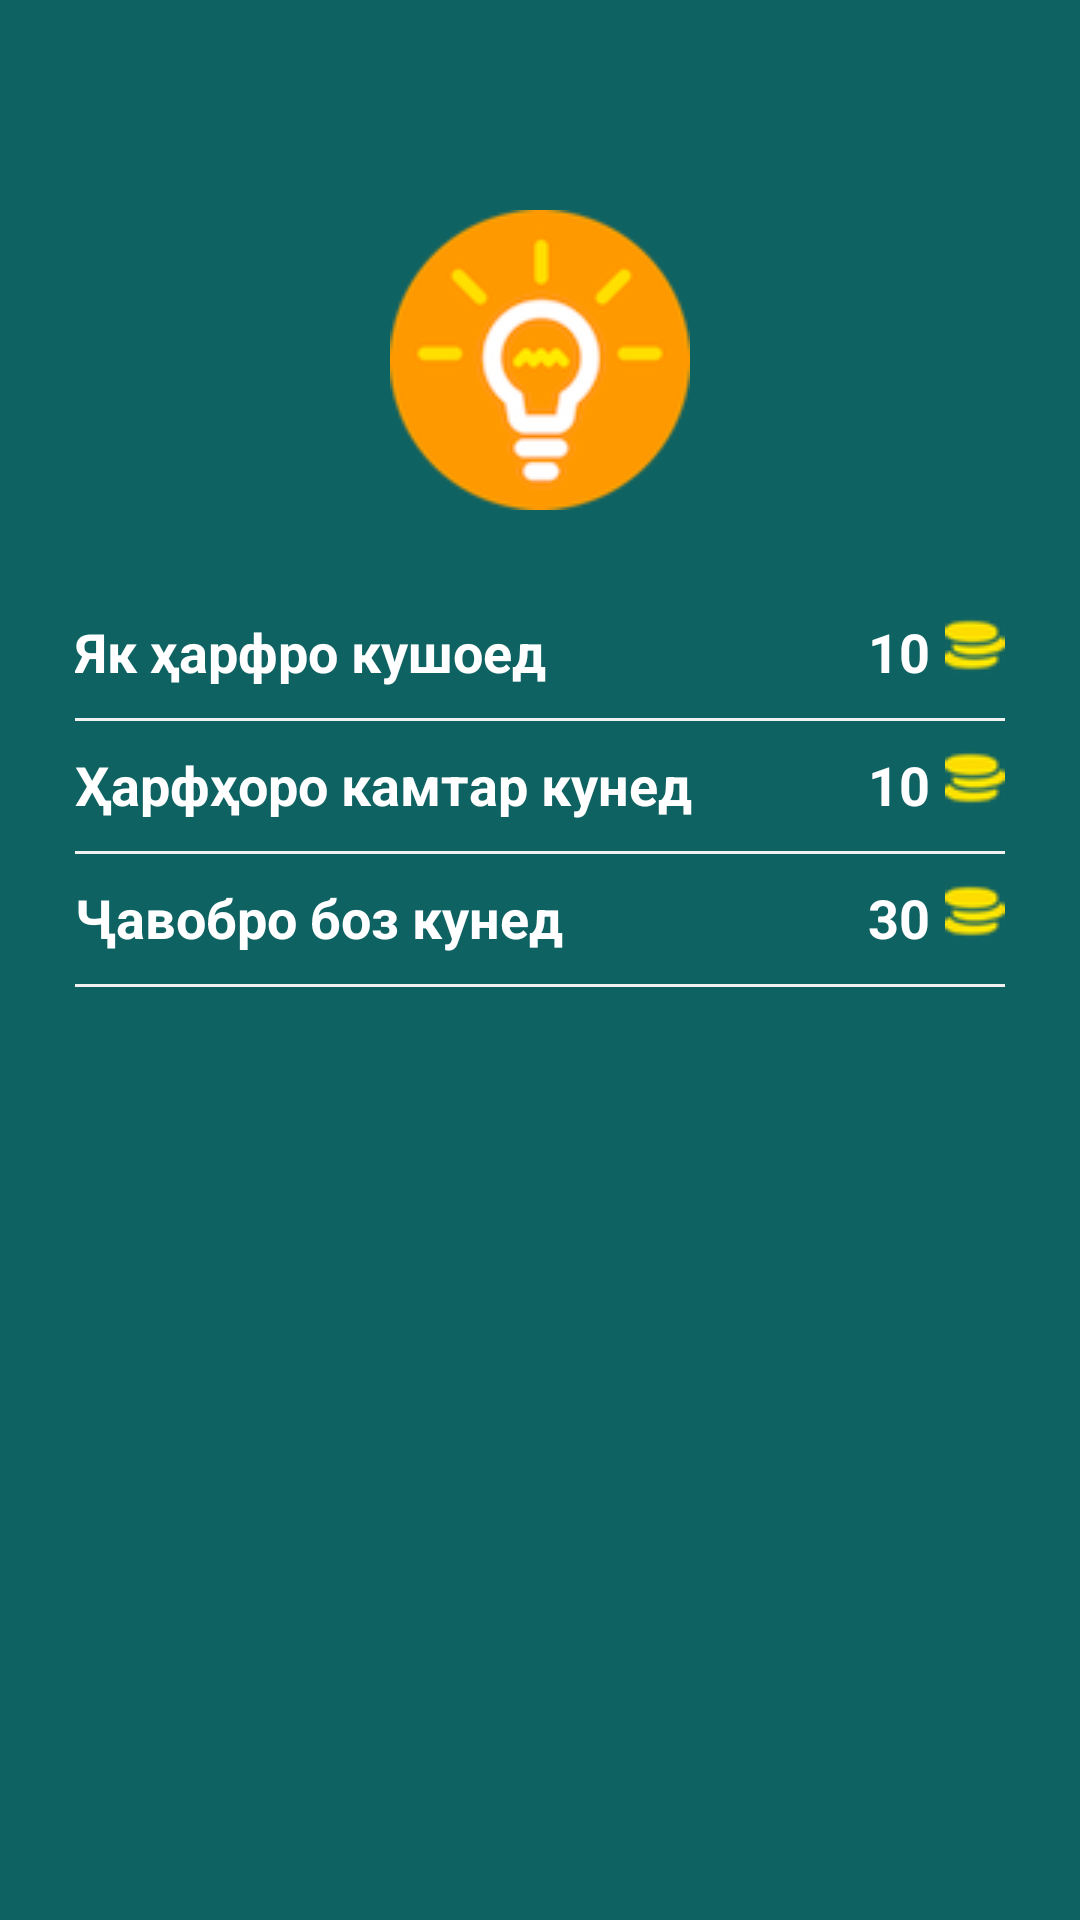

Point at icon controls on the screen. Image size 1080w x 1920h, points as point (x, y).
coins: point (975, 645), point (975, 778), point (975, 911)
hint: point (540, 360)
